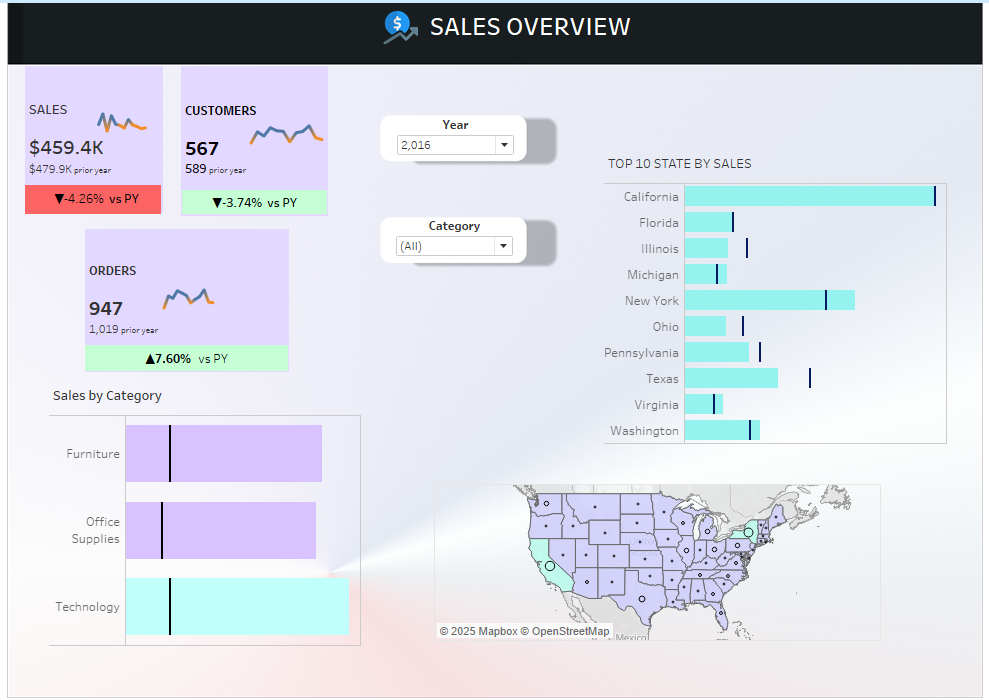

What the dashboard file says about the page in this screenshot:
{"tool":"tableau","page":{"name":"Dashboard 1","canvas":[1000,950],"ordinal":0},"visuals":[{"type":"image","param":"C:/Users/DAVID ASUQUO/Downloads/Figma basics (8).png","box":[8,8,984,934]},{"type":"text","box":[296,24,558,45]},{"type":"image","param":"C:/Users/DAVID ASUQUO/Downloads/BADGES/growth.png","box":[420,29,41,35]},{"type":"worksheet","title":"Sales","mark":"Automatic","box":[30,93,208,147]},{"type":"worksheet","title":"CUSTOMERS","mark":"Automatic","box":[186,93,156,168]},{"type":"worksheet","title":"sales graph","mark":"Automatic","rows":["Calculation_1105915214515408899"],"cols":["Order Date"],"box":[101,138,51,22]},{"type":"parameter","param":"[Parameters].[Parameter 1]","box":[399,143,123,41]},{"type":"worksheet","title":"CUSTOMERS GRAPH","mark":"Automatic","rows":["Order change YoY  (copy)_1105915214675902487"],"cols":["Order Date"],"box":[249,150,84,22]},{"type":"worksheet","title":"top 10 sales","mark":"Automatic","rows":["State"],"cols":["Sales","Selected Year (copy)_1105915214519017479"],"box":[609,177,357,307]},{"type":"worksheet","title":"Sales BTN","mark":"Square","box":[30,212,136,29]},{"type":"worksheet","title":"CUSTOMERS B 2)","mark":"Square","box":[187,217,145,24]},{"type":"filter","title":"Sales by category","param":"[federated.1we8gio0o089bm11akw3y1dlft0y].[none:Category:nk]","box":[398,244,123,40]},{"type":"worksheet","title":"ORDERS","mark":"Automatic","box":[90,256,305,143]},{"type":"worksheet","title":"ORDERS GRAPH (3)","mark":"Automatic","rows":["Sales change YoY (copy)_1105915214672293904"],"cols":["Order Date"],"box":[164,314,59,23]},{"type":"worksheet","title":"ORDERS BTN (2)","mark":"Square","box":[90,372,203,26]},{"type":"worksheet","title":"Sales by category","mark":"Bar","rows":["Category"],"cols":["Sales","Calculation_1105915214512713728"],"box":[54,409,312,264]},{"type":"worksheet","title":"Map","mark":"Multipolygon","box":[439,511,537,193]}]}

Visuals, with their boxes on the page's 1000x950 design canvas (x1, y1, x2, y2). These are canvas units, not pixel positions in the 989x700 screenshot, which may show the page scaled, cropped or inside an application window:
image: (8, 8, 992, 942)
text: (296, 24, 854, 69)
image: (420, 29, 461, 64)
"Sales" worksheet: (30, 93, 238, 240)
"CUSTOMERS" worksheet: (186, 93, 342, 261)
"sales graph" worksheet: (101, 138, 152, 160)
parameter: (399, 143, 522, 184)
"CUSTOMERS GRAPH" worksheet: (249, 150, 333, 172)
"top 10 sales" worksheet: (609, 177, 966, 484)
"Sales BTN" worksheet (Square marks): (30, 212, 166, 241)
"CUSTOMERS B 2)" worksheet (Square marks): (187, 217, 332, 241)
"Sales by category" filter: (398, 244, 521, 284)
"ORDERS" worksheet: (90, 256, 395, 399)
"ORDERS GRAPH (3)" worksheet: (164, 314, 223, 337)
"ORDERS BTN (2)" worksheet (Square marks): (90, 372, 293, 398)
"Sales by category" worksheet (Bar marks): (54, 409, 366, 673)
"Map" worksheet (Multipolygon marks): (439, 511, 976, 704)
